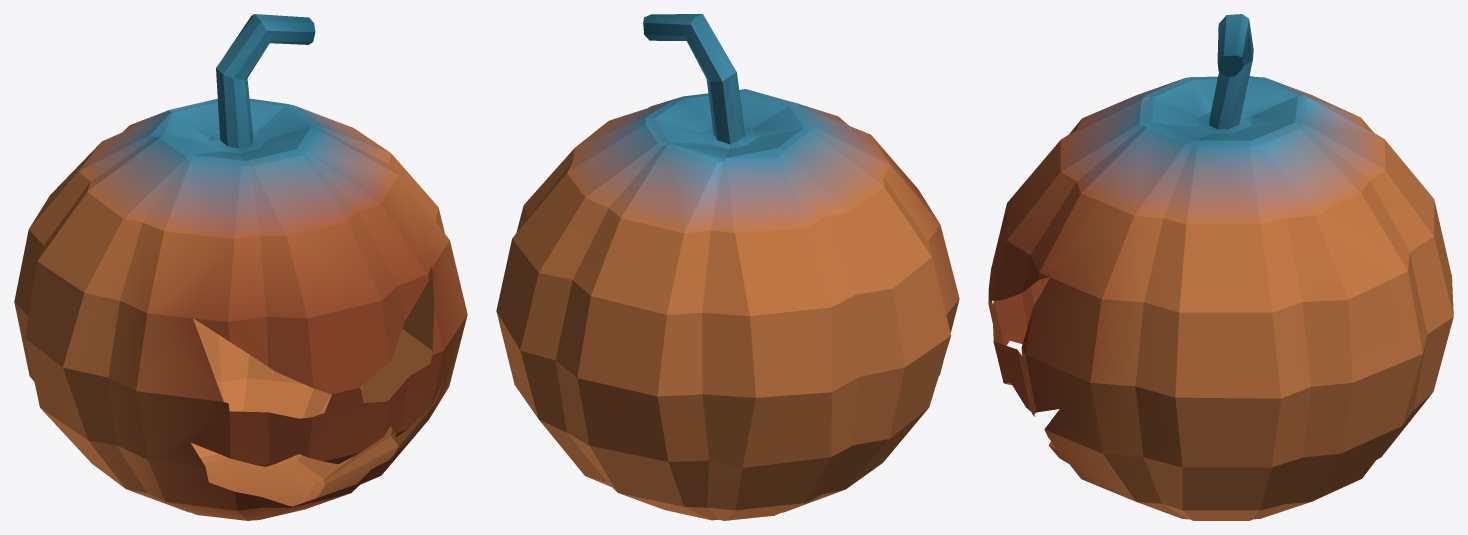
File: pumpkin-1.glb
3 renders of one model, left to right at view 1: azimuth 30°, elevation 25°; view 2: azimuth 150°, elevation 25°; view 3: azimuth 270°, elevation 25°, orthographic. The views are drawn at different scales.
Visible parts, largest first — view 1: Sphere.002; view 2: Sphere.002; view 3: Sphere.002.
Part boxes in pixels (<box>): Sphere.002: <box>14,14,467,520</box>; Sphere.002: <box>496,14,959,520</box>; Sphere.002: <box>988,14,1453,520</box>.
Bounding box in the file's own units: 2.13 × 2.4 × 2.09.
